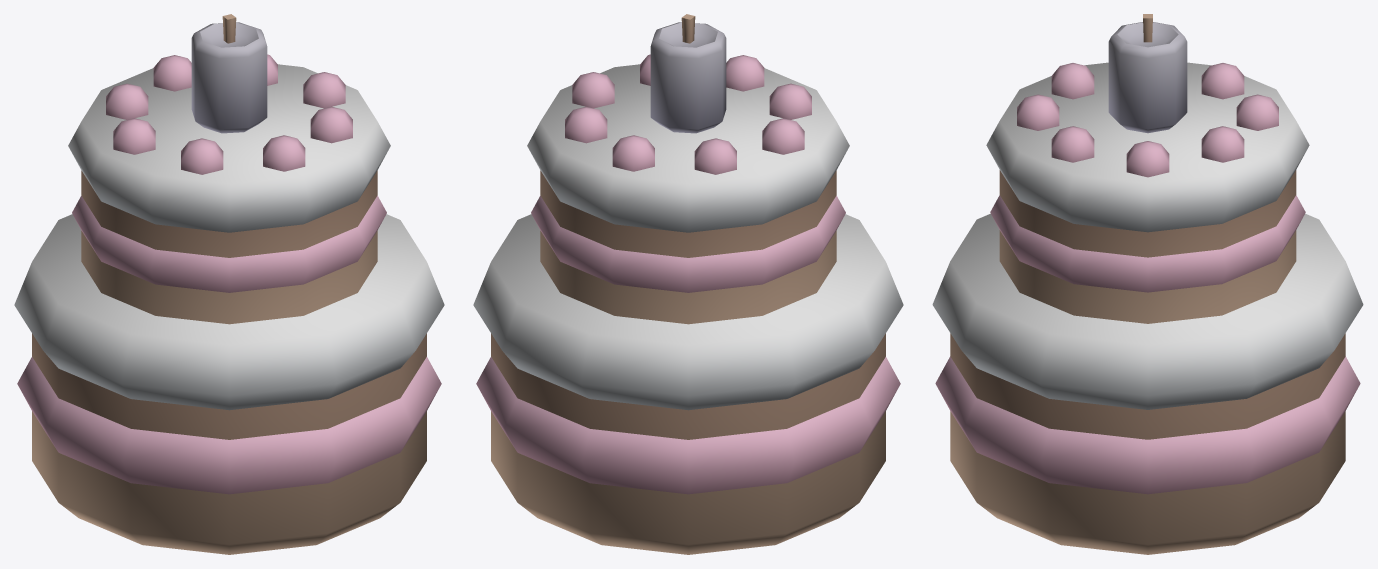
File: march7 (%secret).glb
3 renders of one model, left to right at view 1: azimuth 30°, elevation 25°; view 2: azimuth 150°, elevation 25°; view 3: azimuth 270°, elevation 25°, orthographic.
Visible parts, largest first — view 1: march7 (%secret); view 2: march7 (%secret); view 3: march7 (%secret).
Part boxes in pixels (x1=…): march7 (%secret): x1=14, y1=14, x2=444, y2=554; march7 (%secret): x1=473, y1=14, x2=903, y2=554; march7 (%secret): x1=932, y1=14, x2=1363, y2=554.
Bounding box in the file's own units: 0.4796 × 0.571 × 0.4796.
